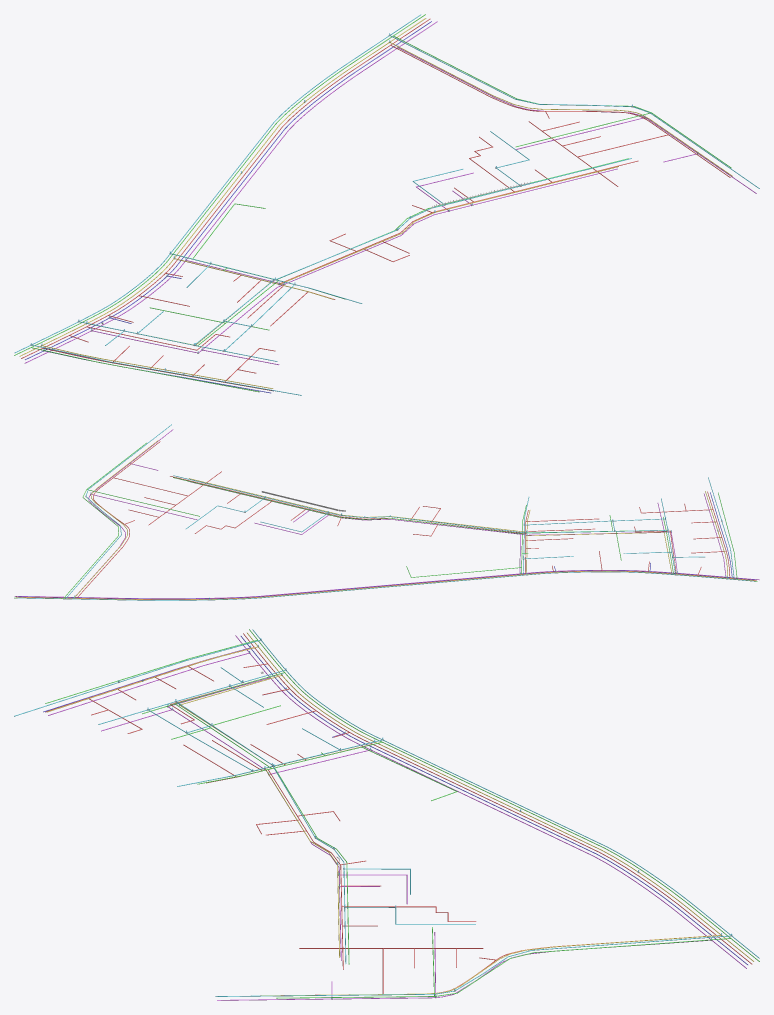
File: only_pipe.gltf
3 views of the same model, one above another, from view 1: azimuth 30°, elevation 25°; view 2: azimuth 150°, elevation 25°; view 3: azimuth 270°, elevation 25° (orthographic). The views are drawn at different scales.
Visible parts, largest first — view 1: dianliguangdao, geishuiguangdao, religuandao, dianxinguangdao, paishuiguangdao, ranqiguandao; view 2: dianliguangdao, geishuiguangdao, religuandao, paishuiguangdao, dianxinguangdao, ranqiguandao; view 3: geishuiguangdao, dianliguangdao, dianxinguangdao, religuandao, paishuiguangdao, ranqiguandao.
Boxes of the visible parts, x1,y1,x2,y2 form: dianliguangdao: (21, 18, 730, 390); geishuiguangdao: (14, 14, 759, 395); religuandao: (24, 21, 756, 391); dianxinguangdao: (14, 14, 731, 392); paishuiguangdao: (19, 18, 732, 388); ranqiguandao: (25, 21, 431, 393); dianliguangdao: (16, 441, 756, 599); geishuiguangdao: (18, 424, 754, 600); religuandao: (14, 429, 759, 598); paishuiguangdao: (18, 440, 754, 599); dianxinguangdao: (14, 442, 757, 599); ranqiguandao: (18, 492, 755, 599); geishuiguangdao: (14, 629, 759, 996); dianliguangdao: (45, 633, 752, 995); dianxinguangdao: (45, 629, 759, 998); religuandao: (48, 635, 746, 1000); paishuiguangdao: (47, 632, 753, 995); ranqiguandao: (43, 636, 747, 964).
Bounding box in the file's own units: 1070 × 14.49 × 915.
